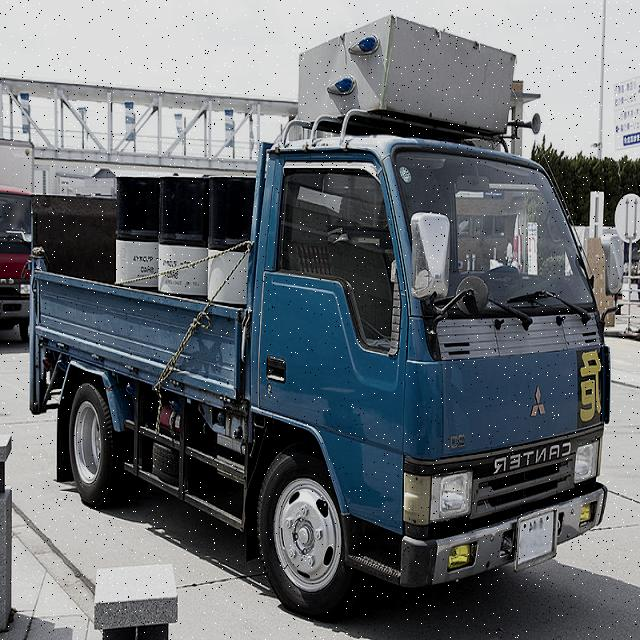truck: (29, 141, 625, 609)
